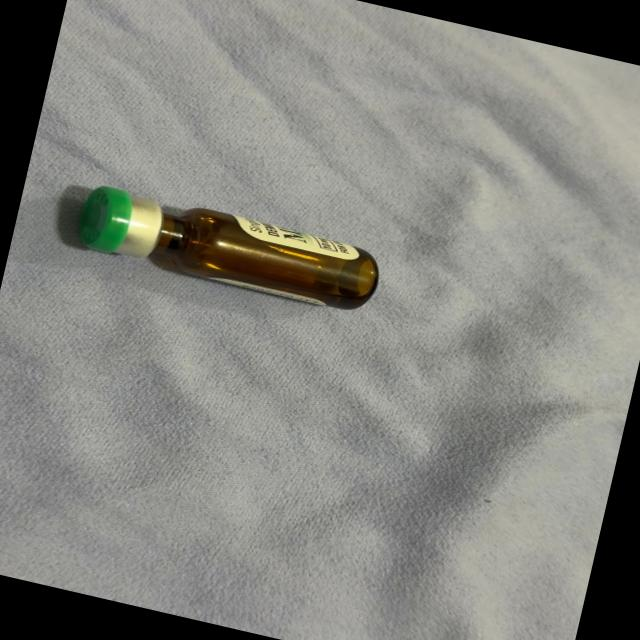midazolm: (76, 182, 378, 314)
